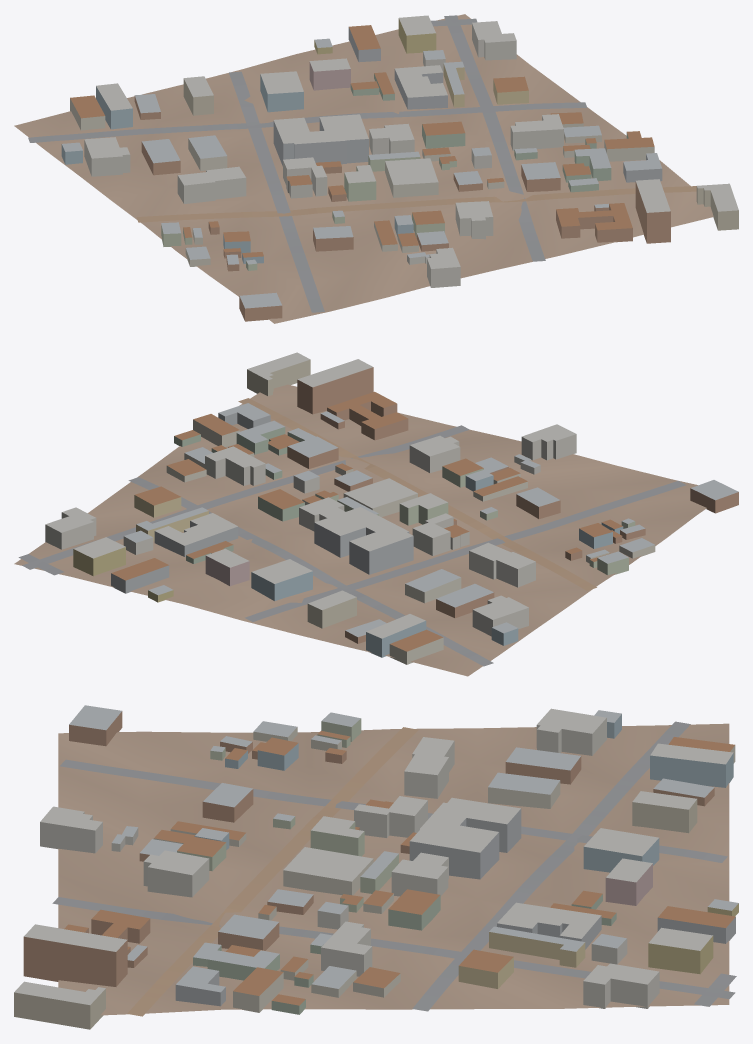
3 renders of one model, top to bottom at view 1: azimuth 30°, elevation 25°; view 2: azimuth 150°, elevation 25°; view 3: azimuth 270°, elevation 25°, orthographic. The views are drawn at different scales.
Parts seen in each view (by area): view 1: Lo; view 2: Lo; view 3: Lo.
Part boxes in pixels (bbox=[...]): Lo: bbox=[14, 14, 738, 323]; Lo: bbox=[14, 352, 738, 676]; Lo: bbox=[14, 705, 738, 1029].
Bounding box in the file's own units: 276 × 16.82 × 277.
